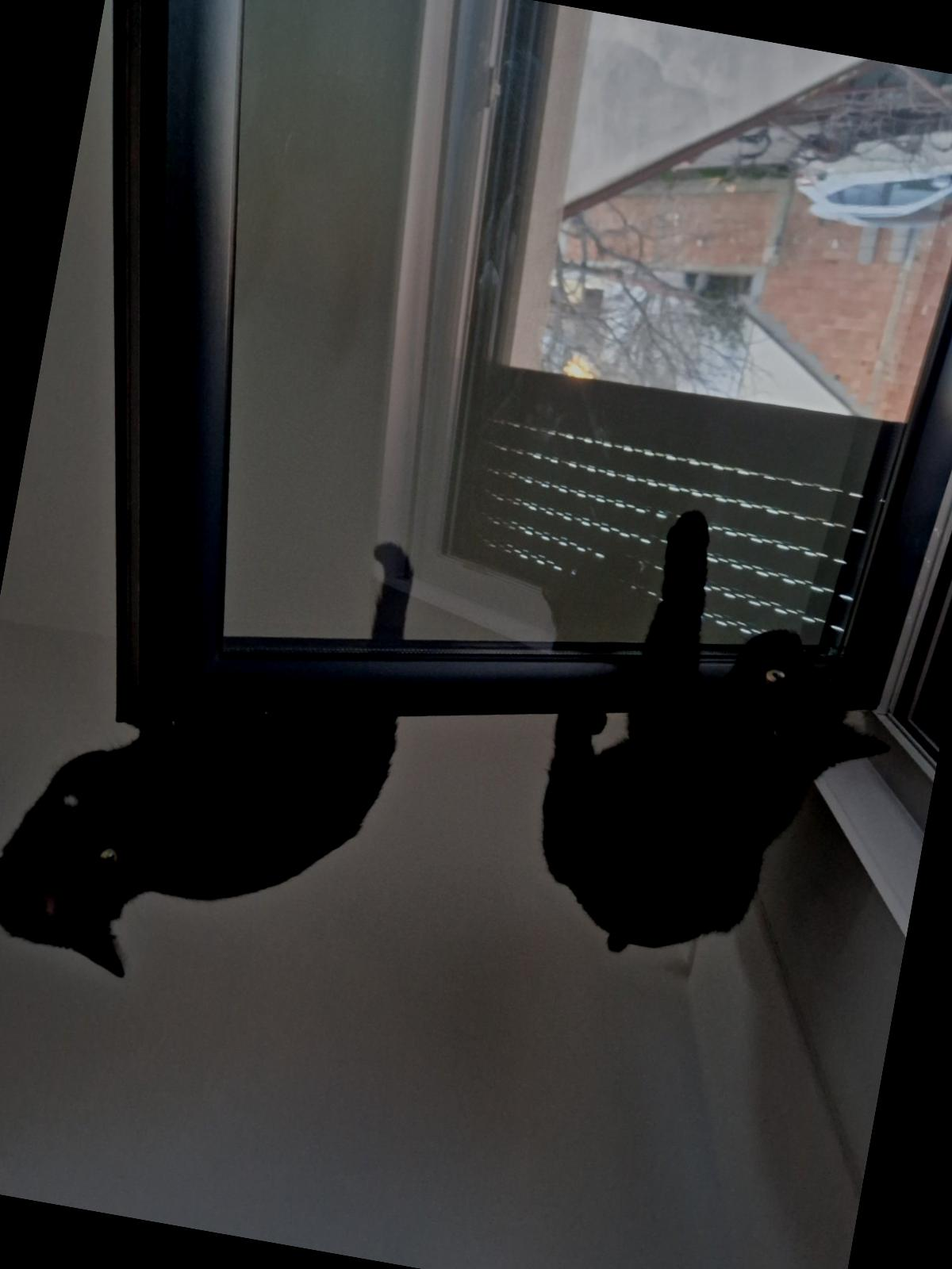macka: (0, 473, 436, 1022), (513, 488, 926, 1002)
